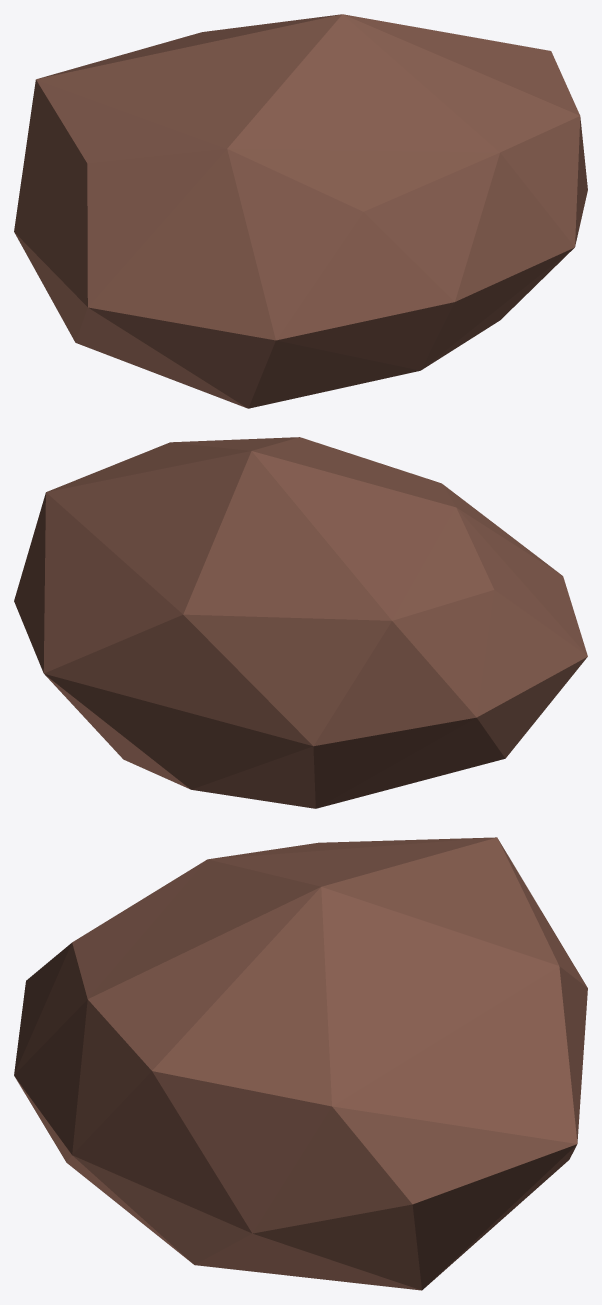
The model's file is decor_rock_06.glb.
The picture shows the model from 3 angles, top to bottom: view 1: azimuth 30°, elevation 25°; view 2: azimuth 150°, elevation 25°; view 3: azimuth 270°, elevation 25°; orthographic projection. The views are drawn at different scales.
Visible parts, largest first — view 1: decor_rock_06; view 2: decor_rock_06; view 3: decor_rock_06.
Boxes of the visible parts, bbox=[...] form: decor_rock_06: bbox=[14, 14, 587, 408]; decor_rock_06: bbox=[14, 437, 587, 808]; decor_rock_06: bbox=[14, 837, 587, 1290].
Bounding box in the file's own units: 2.15 × 1.3 × 1.83.
